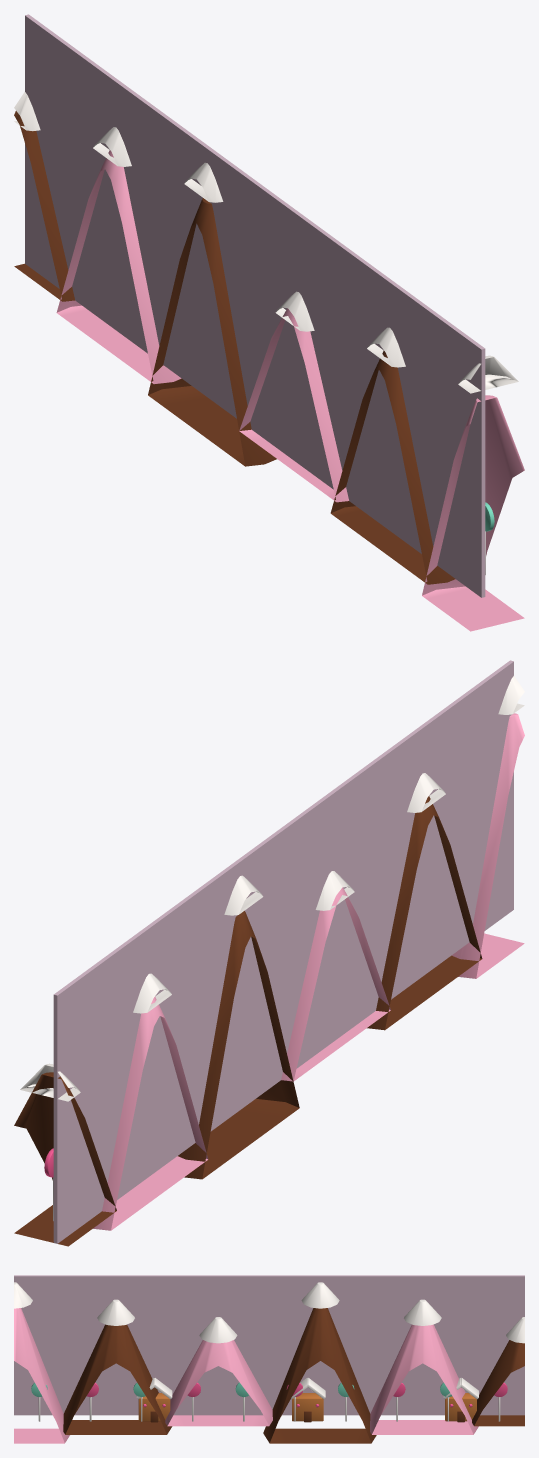
Rendered from BackdropCandy.fbx.
3 renders of one model, top to bottom at view 1: azimuth 30°, elevation 25°; view 2: azimuth 150°, elevation 25°; view 3: azimuth 270°, elevation 25°, orthographic. The views are drawn at different scales.
Visible parts, largest first — view 1: BackdropCandy; view 2: BackdropCandy; view 3: BackdropCandy.
Part boxes in pixels (bbox=[...]): BackdropCandy: bbox=[14, 14, 524, 631]; BackdropCandy: bbox=[14, 660, 524, 1246]; BackdropCandy: bbox=[14, 1275, 524, 1443].
Size of the model in its own units: 550 by 2700 by 8000.
